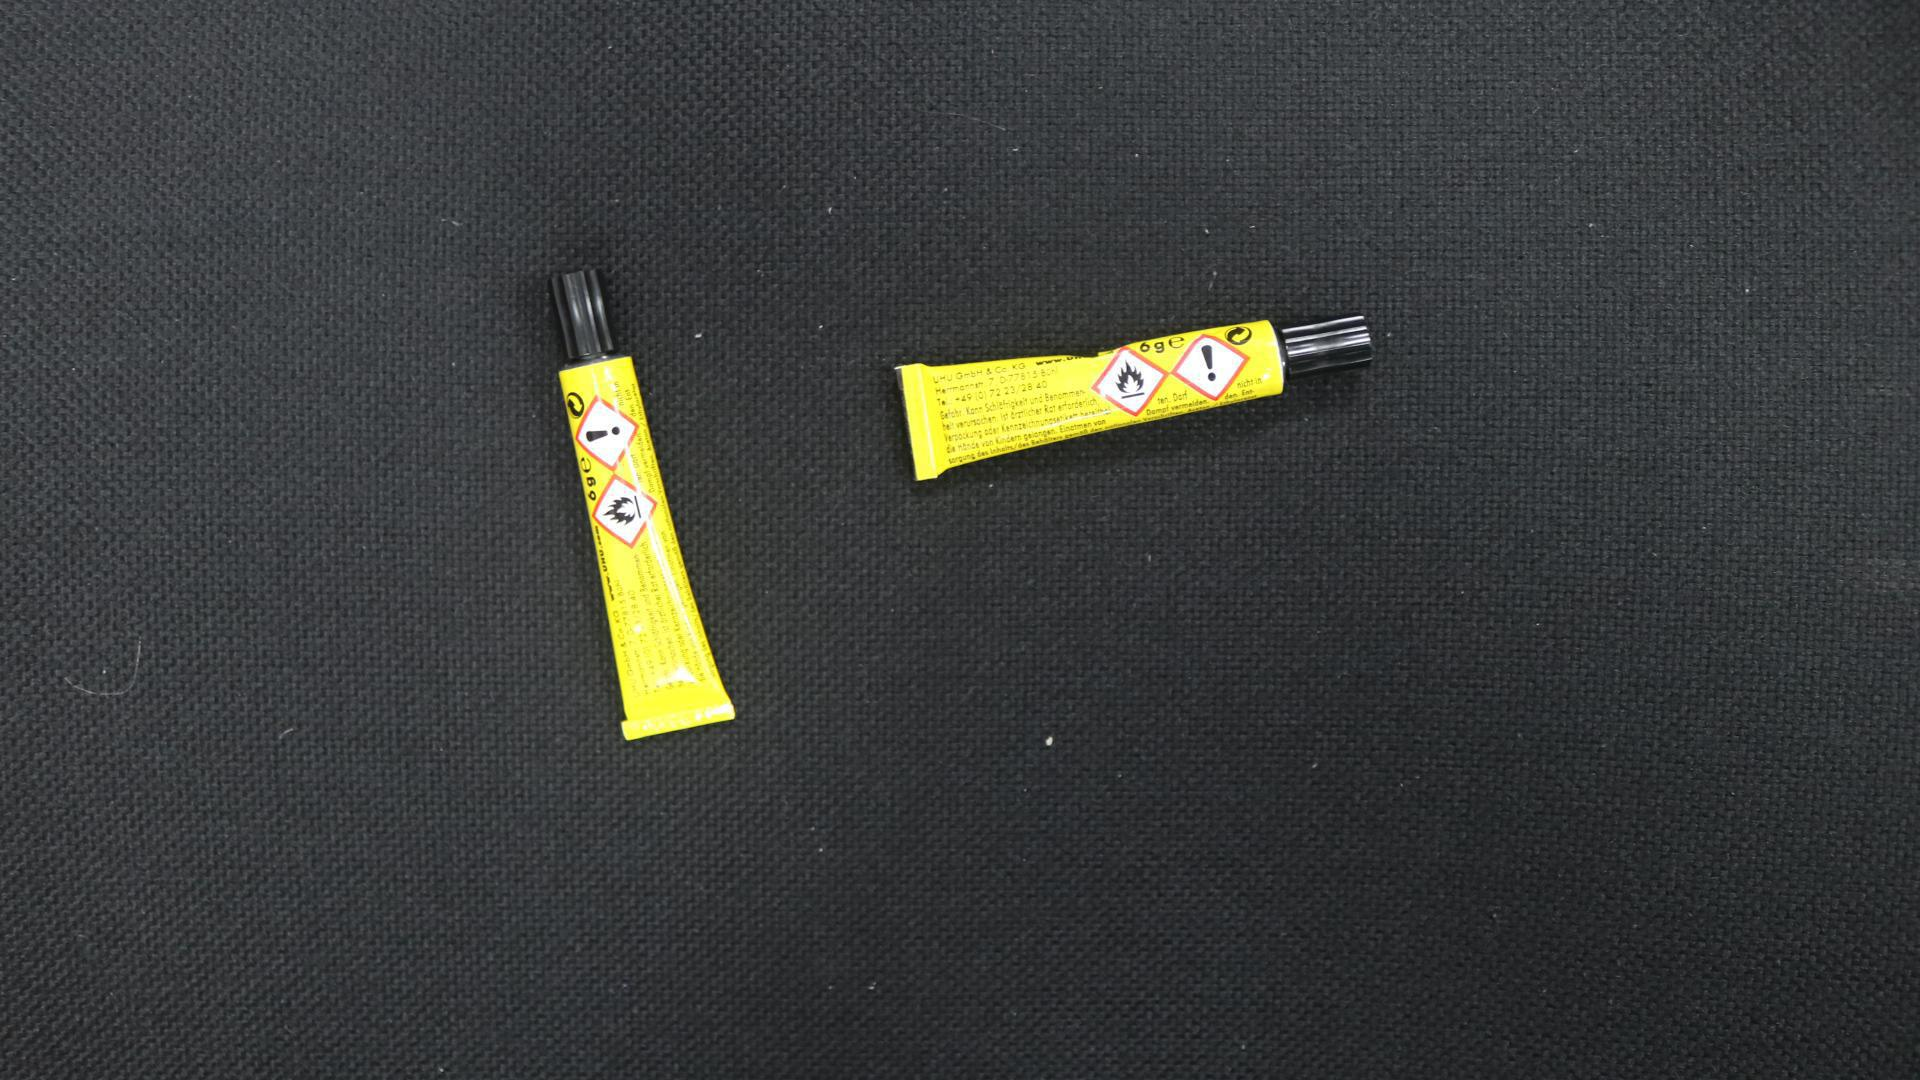Head: (1322, 340, 1334, 352), (578, 310, 589, 322)
Tail: (910, 416, 924, 431), (670, 717, 681, 727)
Tube: (543, 267, 737, 742), (891, 313, 1375, 480)
